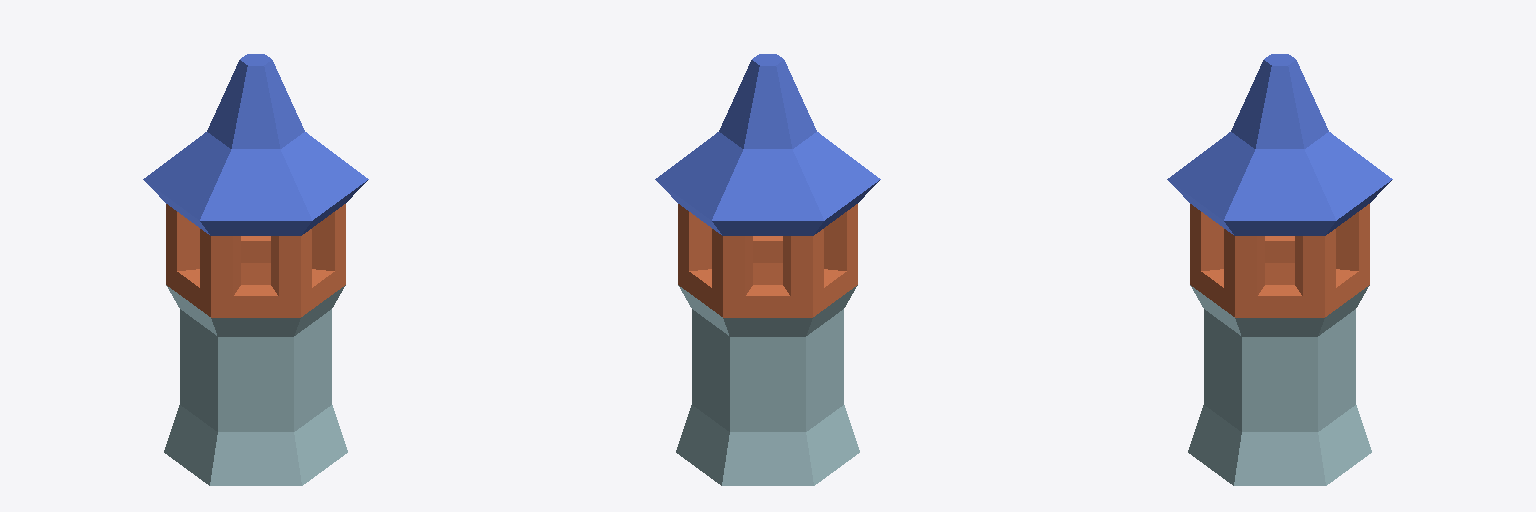
File: unit_tower.obj
The picture shows the model from 3 angles: view 1: azimuth 30°, elevation 25°; view 2: azimuth 150°, elevation 25°; view 3: azimuth 270°, elevation 25°; orthographic projection.
Parts seen in each view (by area): view 1: unit_tower; view 2: unit_tower; view 3: unit_tower.
Part boxes in pixels (x1,y1,x2,y2): unit_tower: (143,54,368,485); unit_tower: (655,54,880,485); unit_tower: (1167,54,1392,485).
Bounding box in the file's own units: 0.3699 × 0.82 × 0.4272.